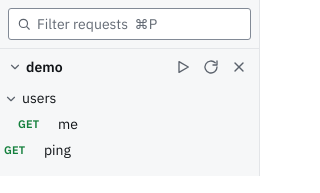
Test: collapse a collection › collapse_hides_tree_and_sets_aria_expanded
expect the list named "demo" is shown: met, box [4,89,78,159]
Click the button "demo": (35, 67) [4,55,66,80]
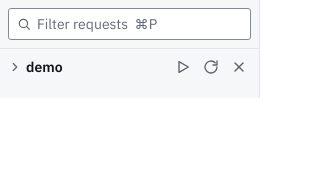
expect the button "demo" is collapsed: met
// A native button: Enter and Space activate it (as a click).
Click the button "demo": (35, 67) [4,55,66,80]
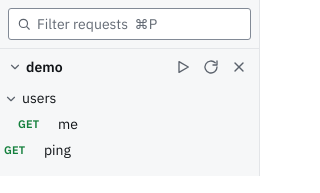
expect the list is shown: met, box [4,89,78,159]
